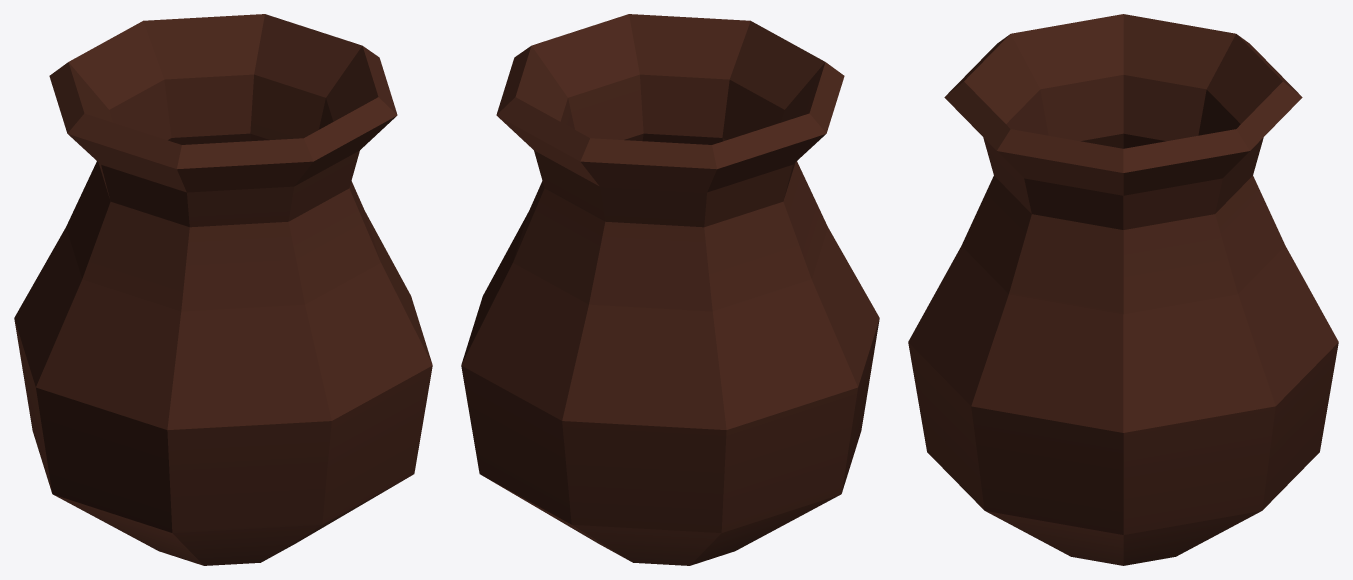
Rendered from pq_vase_5.glb.
The picture shows the model from 3 angles, left to right: view 1: azimuth 30°, elevation 25°; view 2: azimuth 150°, elevation 25°; view 3: azimuth 270°, elevation 25°; orthographic projection.
Parts seen in each view (by area): view 1: Vase; view 2: Vase; view 3: Vase.
Boxes of the visible parts, x1=… form: Vase: x1=14, y1=14, x2=432, y2=565; Vase: x1=461, y1=14, x2=879, y2=565; Vase: x1=908, y1=14, x2=1338, y2=565.
Size of the model in its own units: 0.311 by 0.361 by 0.311.
